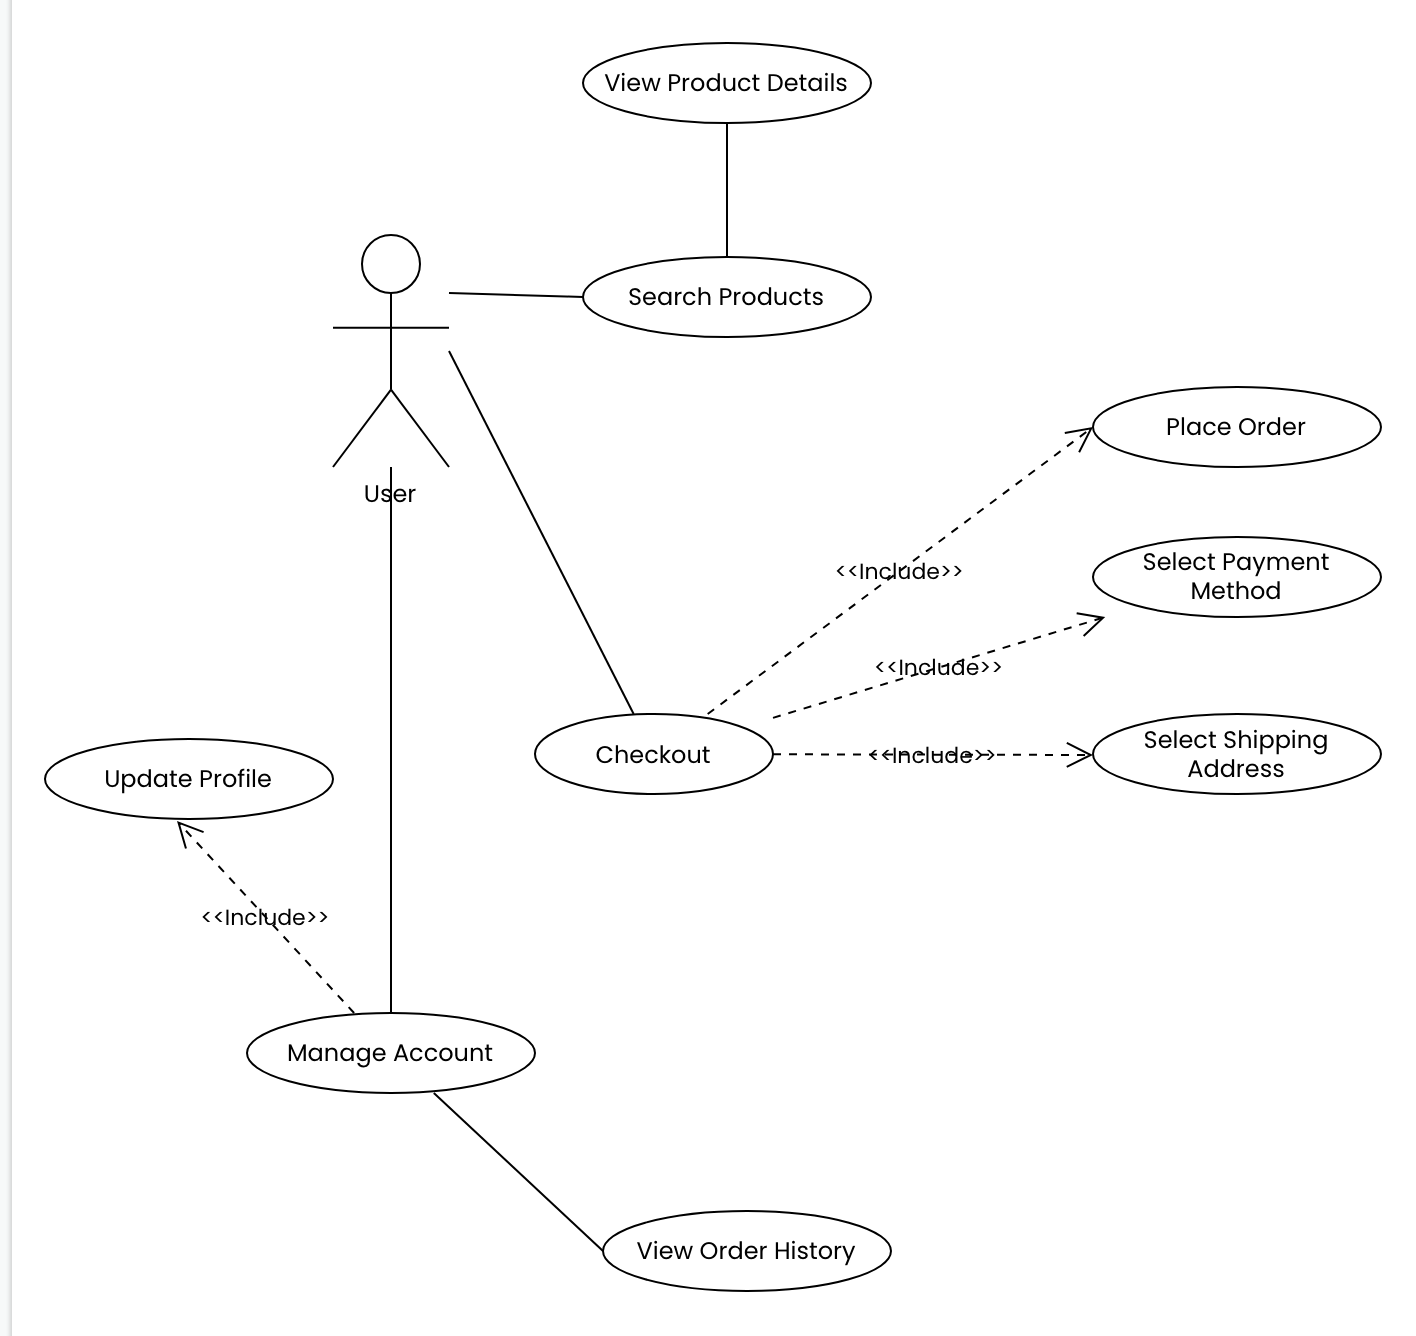actor: (326, 230, 454, 478)
association: (705, 422, 1095, 714), (449, 345, 633, 711), (768, 608, 1115, 727), (174, 817, 362, 1012), (441, 1092, 601, 1247), (773, 740, 1097, 772), (382, 466, 400, 1012), (446, 284, 582, 306), (717, 124, 739, 255)
text: (1139, 547, 1337, 606), (1140, 725, 1328, 784), (629, 1229, 854, 1274), (284, 1037, 507, 1079), (600, 67, 849, 103), (97, 758, 282, 799), (619, 281, 832, 313), (867, 645, 1013, 686), (591, 737, 733, 772), (867, 737, 1003, 773), (1162, 412, 1313, 444), (834, 552, 968, 586), (200, 899, 329, 934), (364, 475, 421, 507)
use_case: (598, 1205, 895, 1296), (577, 39, 875, 128), (41, 735, 336, 822), (579, 252, 874, 340), (1090, 382, 1385, 470), (1090, 534, 1385, 622), (1090, 711, 1385, 799), (245, 1010, 539, 1097), (531, 709, 777, 799)
